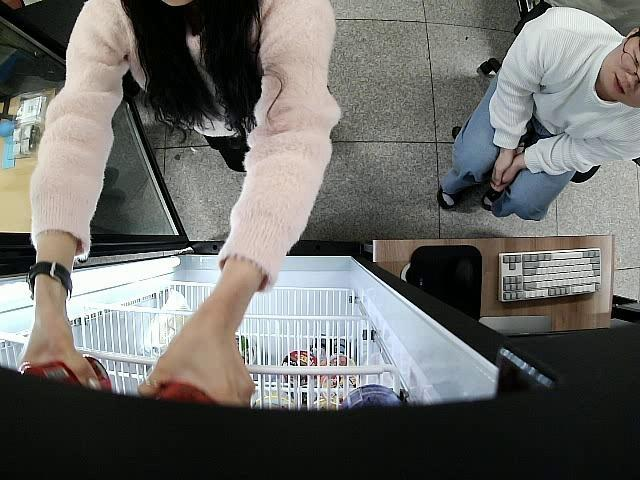11_cocaColaZero: (15, 356, 114, 391), (148, 378, 222, 406)
